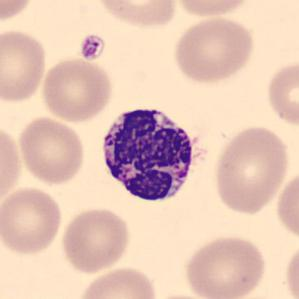Basophil: (95, 98, 206, 209)
Platelets: (78, 32, 108, 63)
RBC: (210, 122, 292, 217), (170, 13, 257, 86), (182, 232, 268, 299), (39, 55, 116, 124), (58, 205, 133, 275), (15, 115, 87, 186), (0, 184, 65, 257), (0, 27, 49, 105), (75, 264, 160, 299), (263, 57, 299, 129), (91, 0, 180, 29), (0, 121, 24, 209), (274, 166, 299, 244), (173, 0, 254, 19), (283, 239, 299, 299), (0, 0, 36, 25), (144, 291, 219, 299)
